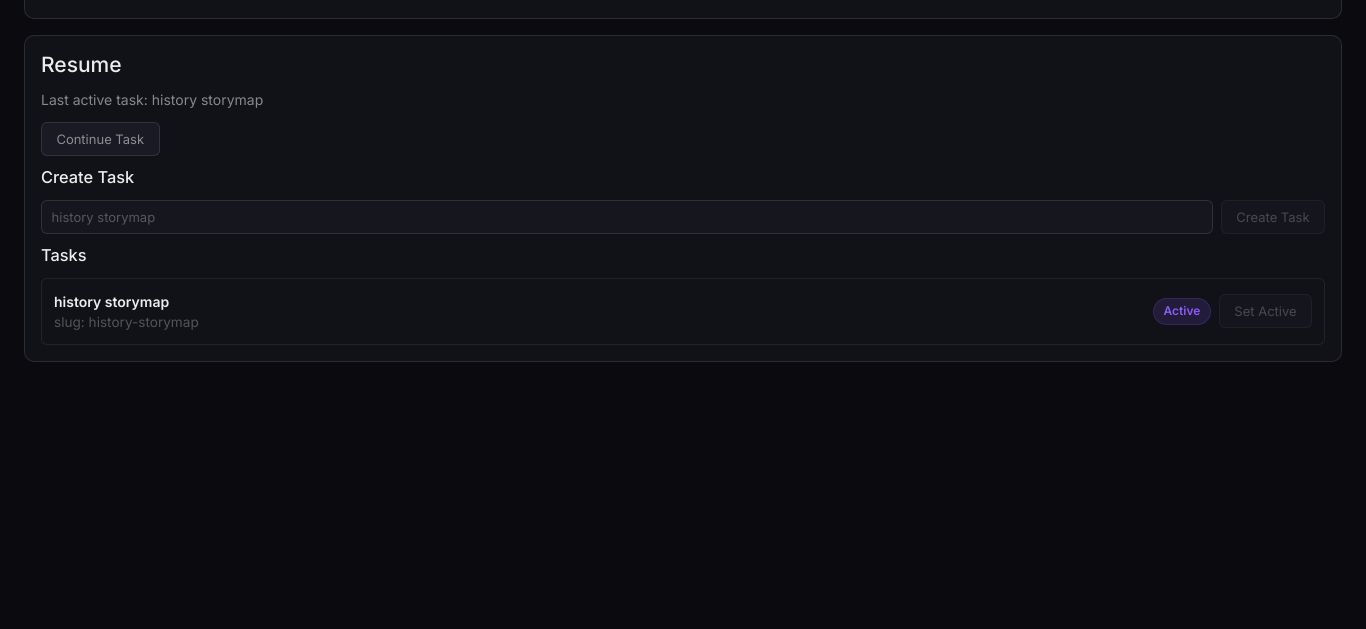
Test: App › surfaces provider failures and keeps visible text output when TTS fails
Check: the element with test id "home-resume-screen" is shown, box [24, 35, 1342, 362]
Click the button with test id "continue-task-button" at (100, 139), box [41, 122, 160, 156]
(page scrolled)
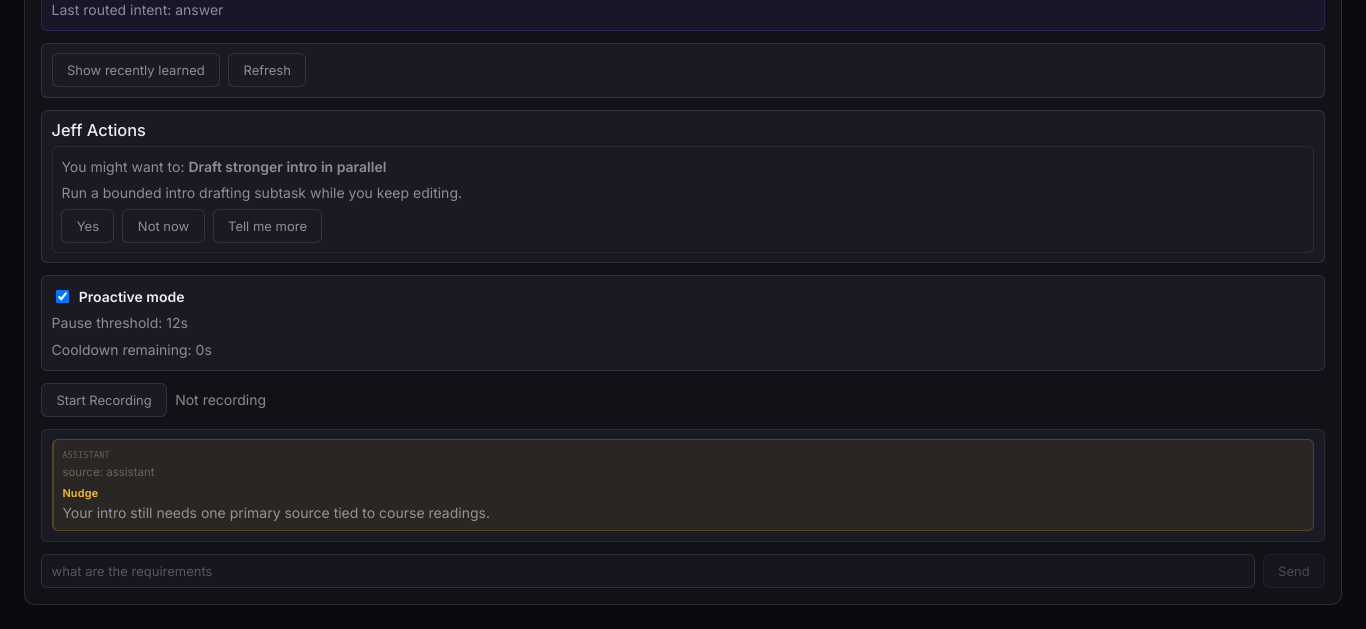
Type "what are requirements" into the field named "chat input" at (648, 571), box [41, 554, 1255, 588]
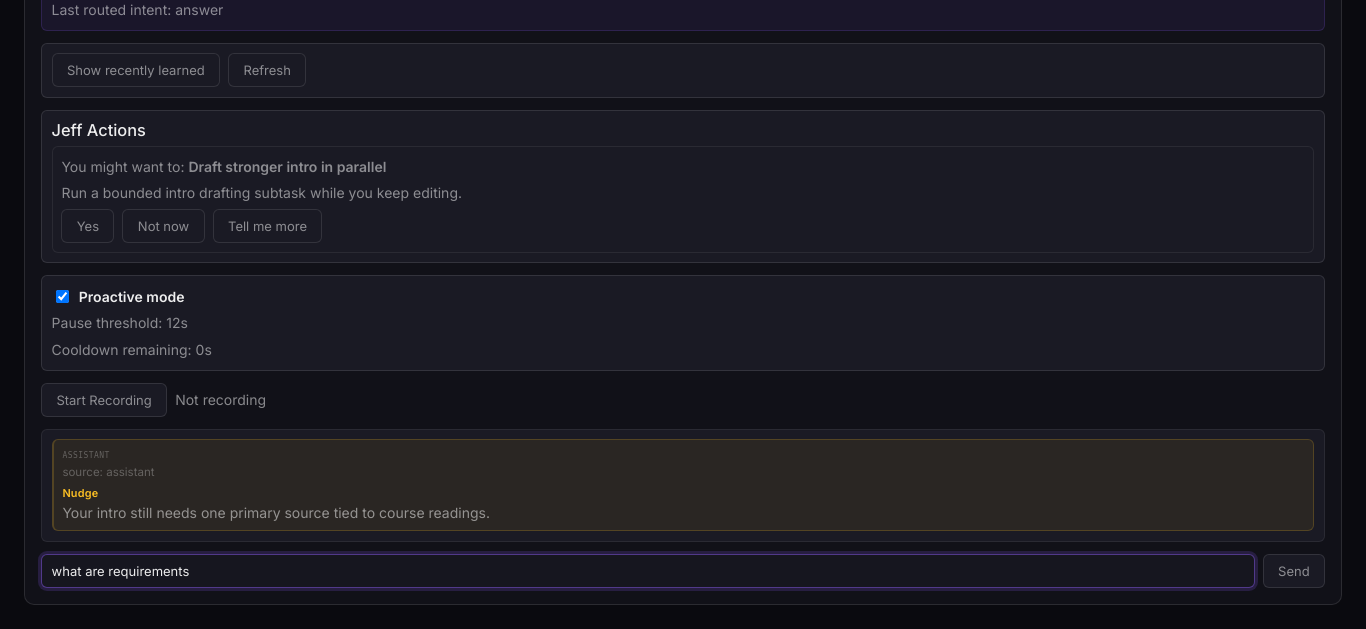
Click the button "Send" at (1294, 571), box [1263, 554, 1325, 588]
(page scrolled)
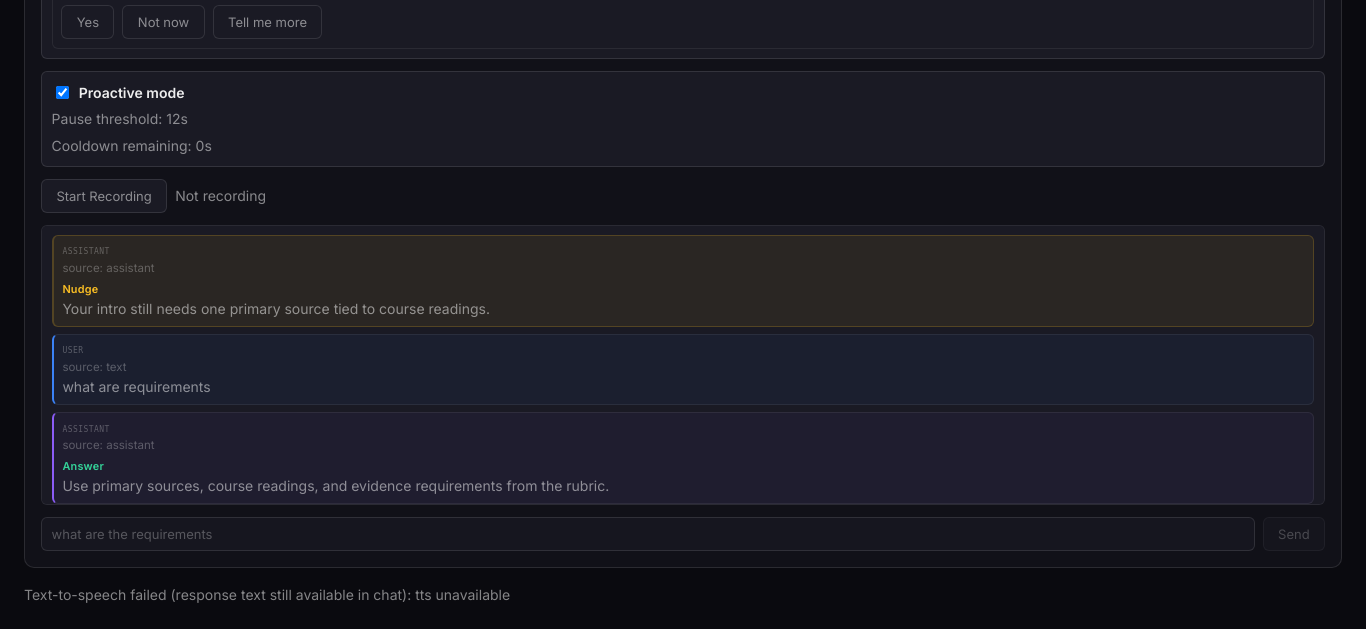
Check: the element with test id "chat-history" shows "Use primary sources, course readings", box [62, 477, 609, 494]
Check: the message reads "Text-to-speech failed (response text still available in chat): tts unavailable", box [24, 586, 510, 602]
